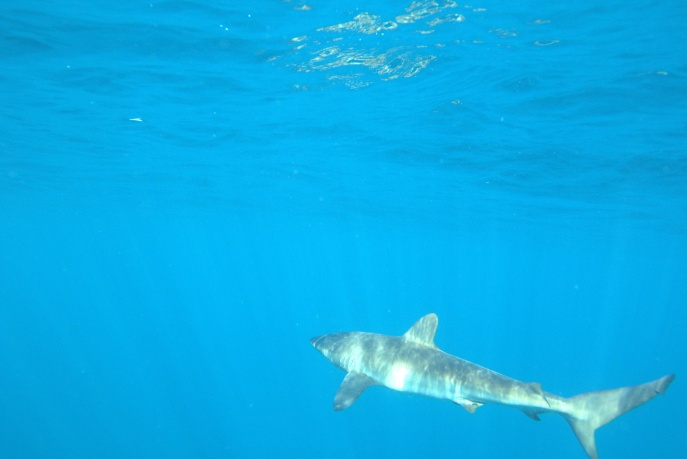Sedoso: (305, 308, 684, 459)
